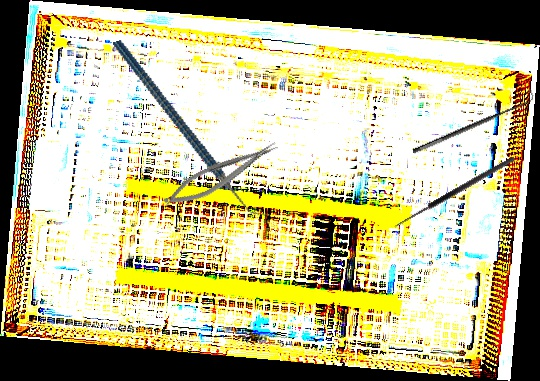Chopper: (112, 12, 269, 245)
Hook Surgical: (392, 155, 520, 236), (407, 87, 538, 156)
Needle Holder: (158, 136, 284, 214)
